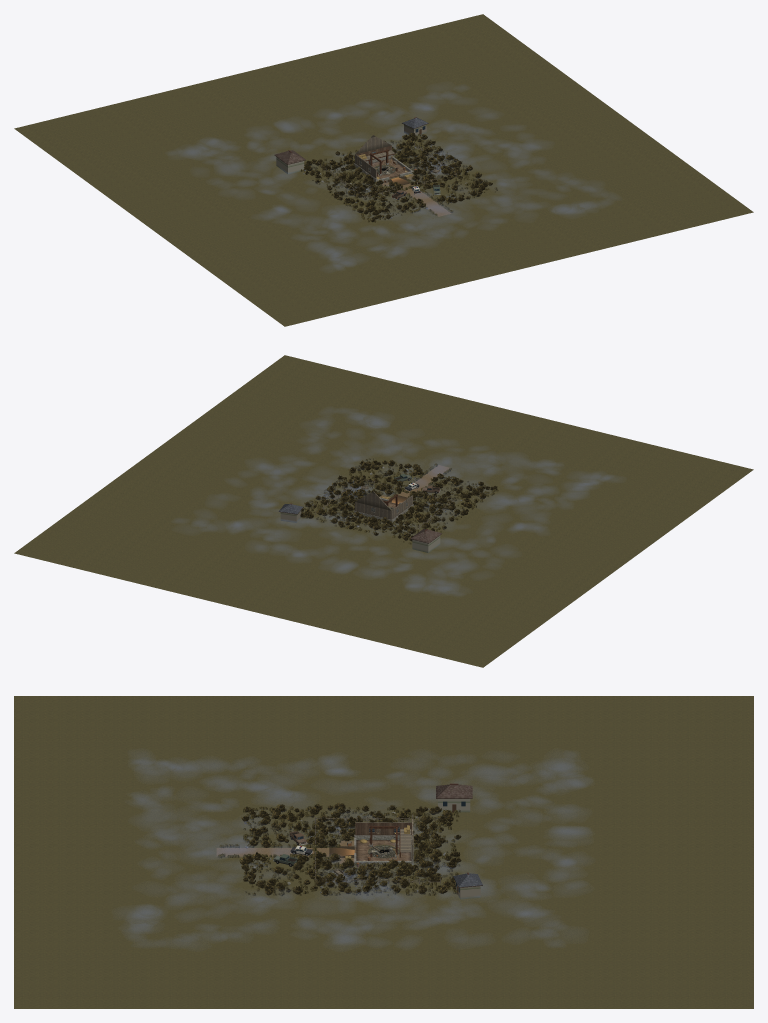
File: fazenda.glb
3 renders of one model, top to bottom at view 1: azimuth 30°, elevation 25°; view 2: azimuth 150°, elevation 25°; view 3: azimuth 270°, elevation 25°, orthographic. The views are drawn at different scales.
Bounding box in the file's own units: 160 × 9.29 × 160.
Materials: 504 (410 with a texture image).
